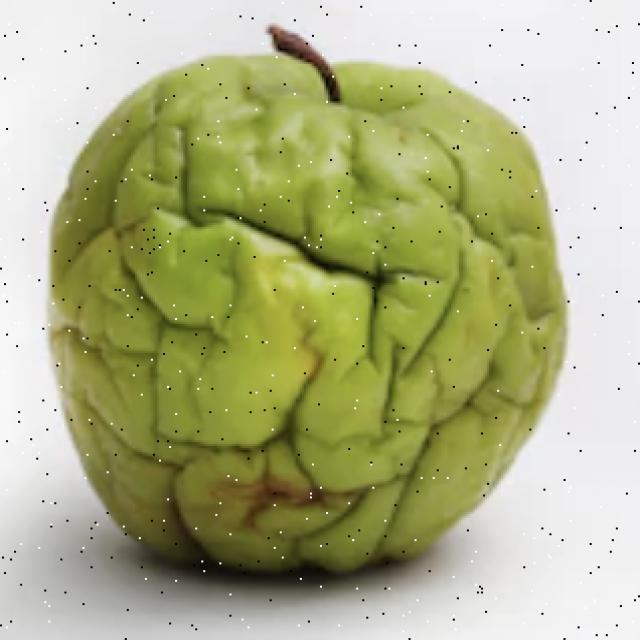Rotten: (72, 58, 570, 595)
